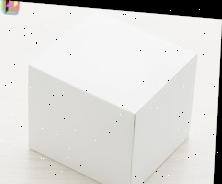cube: (27, 7, 197, 184)
